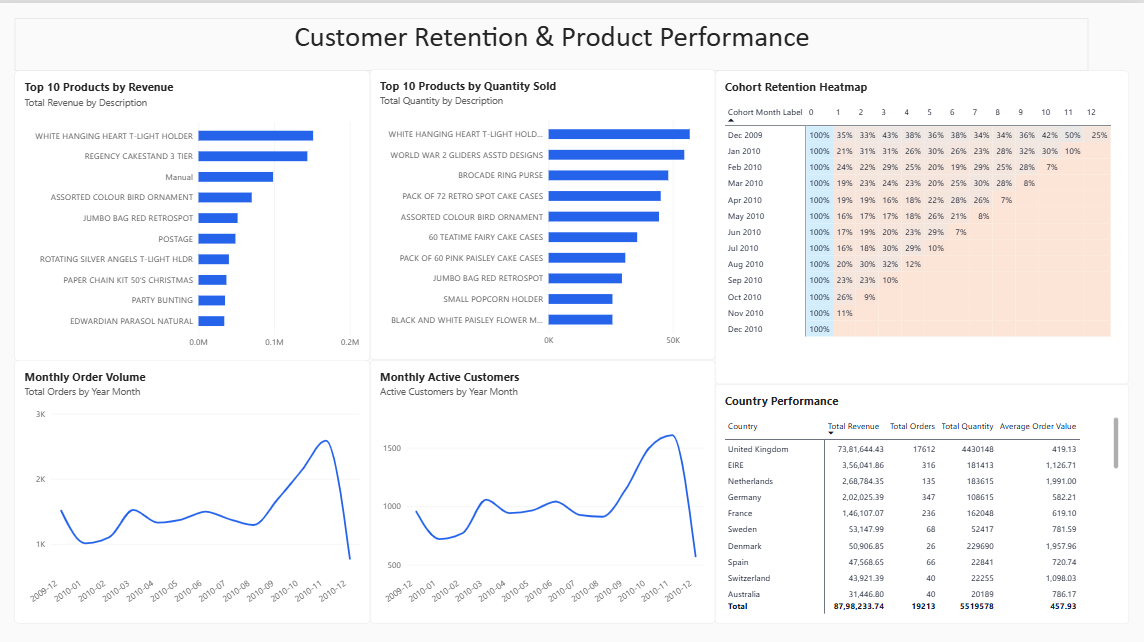

The page's visual inventory and layout, read from the dashboard file:
{"tool":"powerbi","page":{"name":"Retention & Product Analysis","canvas":[1920,1080],"ordinal":2},"visuals":[{"type":"textbox","box":[36.9,25.5,1791.5,87.9],"z":0},{"type":"barChart","title":"Top 10 Products by Revenue","fields":{"Category":["cleaned_online_retail.Description"],"Y":["cleaned_online_retail.Total Revenue"]},"box":[36.9,113.4,592.4,484.7],"z":1000},{"type":"barChart","title":"Top 10 Products by Quantity Sold","fields":{"Category":["cleaned_online_retail.Description"],"Y":["cleaned_online_retail.Total Quantity"]},"box":[629.3,110.6,575.4,484.7],"z":2000},{"type":"lineChart","title":"Monthly Order Volume","fields":{"Category":["DateTable.Year Month"],"Y":["cleaned_online_retail.Total Orders"]},"box":[36.9,595.3,592.4,439.4],"z":3000},{"type":"lineChart","title":"Monthly Active Customers","fields":{"Category":["DateTable.Year Month"],"Y":["DateTable.Active Customers"]},"box":[629.3,595.3,575.4,439.4],"z":4000},{"type":"pivotTable","title":"Country Performance","fields":{"Rows":["cleaned_online_retail.Country"],"Values":["cleaned_online_retail.Total Revenue","cleaned_online_retail.Total Orders","cleaned_online_retail.Total Quantity","cleaned_online_retail.Average Order Value"]},"box":[1205,635,690,400],"z":5000},{"type":"pivotTable","title":"Cohort Retention Heatmap","fields":{"Columns":["cleaned_online_retail.Months Since Cohort"],"Rows":["cleaned_online_retail.Cohort Month Label"],"Values":["cleaned_online_retail.Cohort Retention %"]},"box":[1205,112.5,690,522.5],"z":6000}]}

Visuals, with their boxes in screenshot pixels (x1, y1, x2, y2), scaled from the page's 1920x1080 canvas onto the 1144x642 screenshot:
textbox: crop(22, 15, 1089, 67)
"Top 10 Products by Revenue" barChart: crop(22, 67, 375, 356)
"Top 10 Products by Quantity Sold" barChart: crop(375, 66, 718, 354)
"Monthly Order Volume" lineChart: crop(22, 354, 375, 615)
"Monthly Active Customers" lineChart: crop(375, 354, 718, 615)
"Country Performance" pivotTable: crop(718, 377, 1129, 615)
"Cohort Retention Heatmap" pivotTable: crop(718, 67, 1129, 377)
